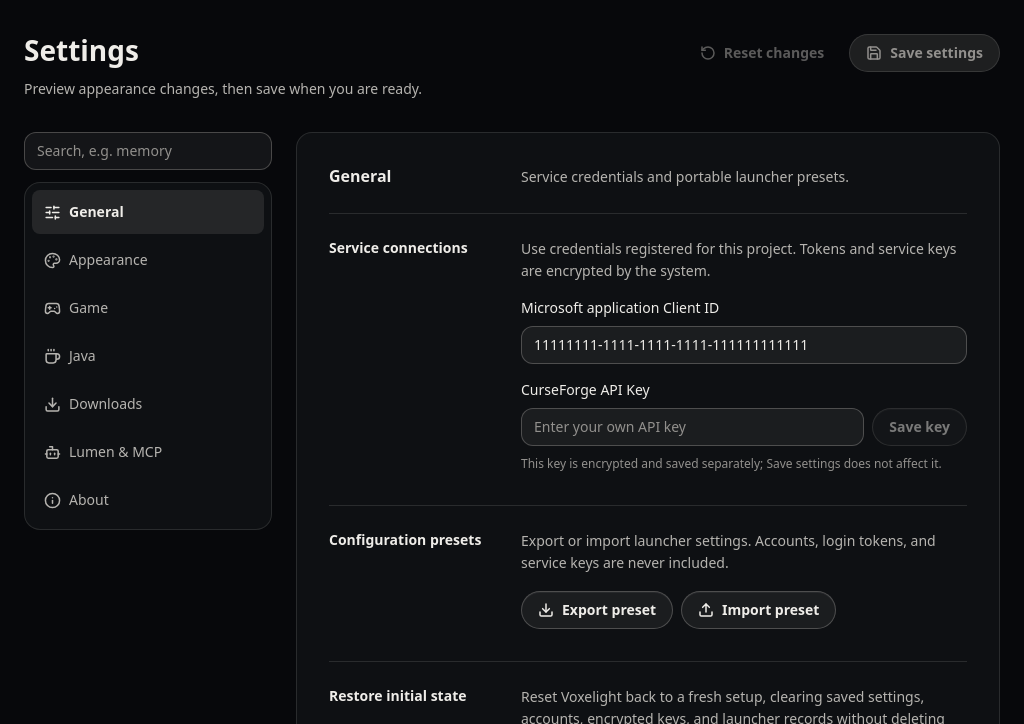
Test: global settings › shows follow-system first and the traditional Chinese presets with accessible names
The image size is (1024, 724).
Click the button "Appearance". click: {"x": 148, "y": 260}
box: x1=32 y1=238 x2=264 y2=282
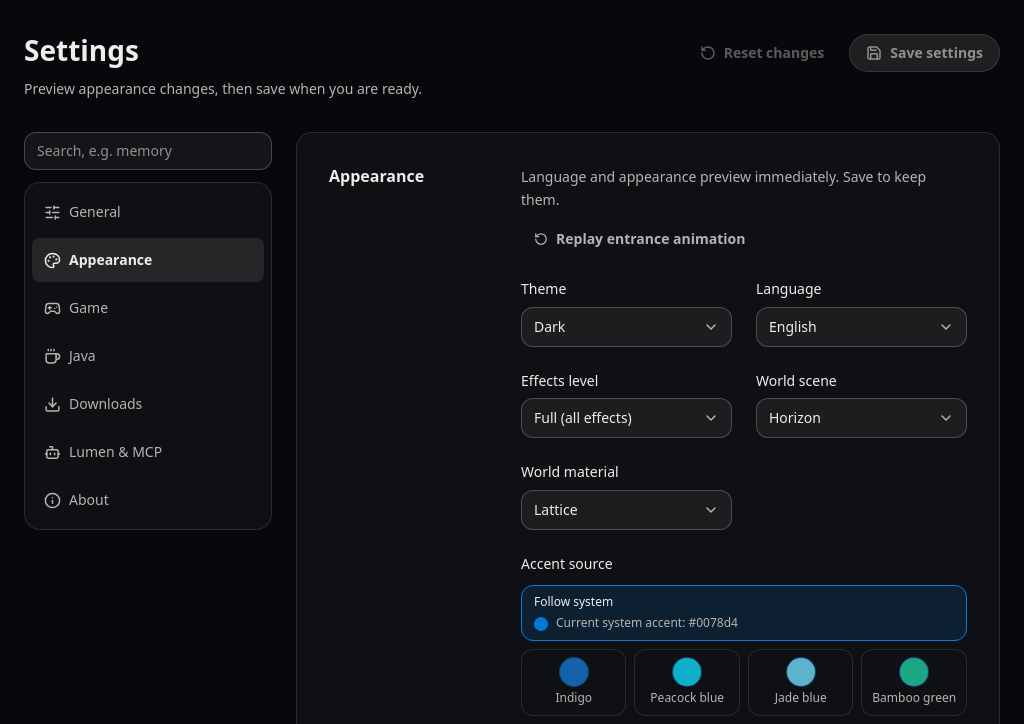
Check: the text "Indigo" is shown, box x1=555 y1=690 x2=592 y2=707
Check: the text "Peacock blue" is shown, box x1=650 y1=690 x2=724 y2=707
Check: the text "Jade blue" is shown, box x1=775 y1=690 x2=827 y2=707
